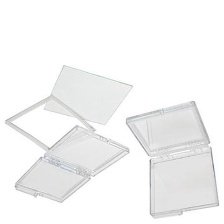plastic_box: (118, 95, 223, 224), (10, 120, 135, 208)
